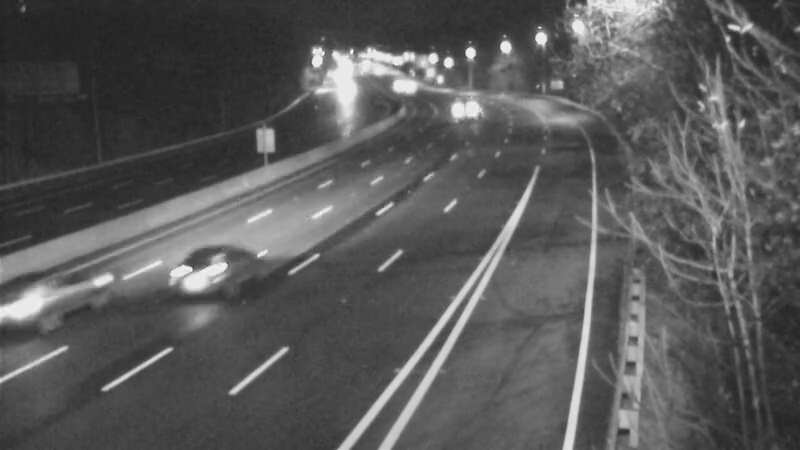vehicle: (172, 230, 252, 310), (9, 251, 89, 331), (371, 63, 421, 113), (444, 81, 494, 131)
